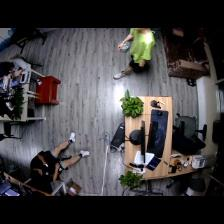normal: (28, 135, 89, 180), (112, 25, 154, 80), (3, 57, 35, 74)
